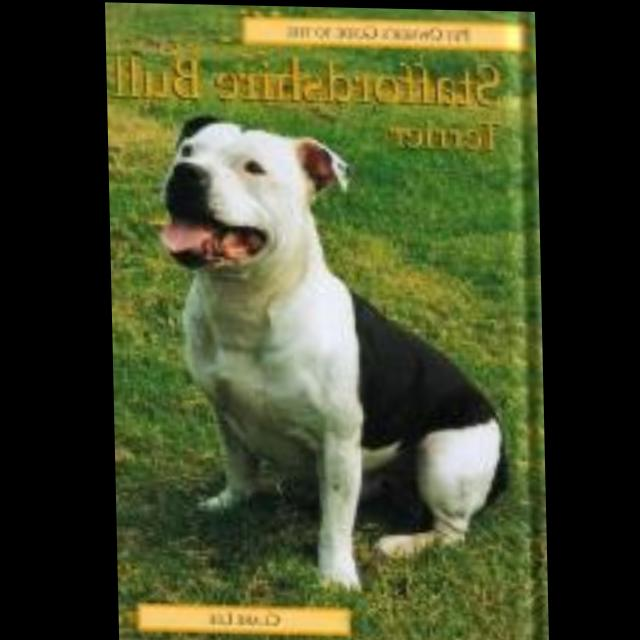staffford: (156, 112, 512, 596)
